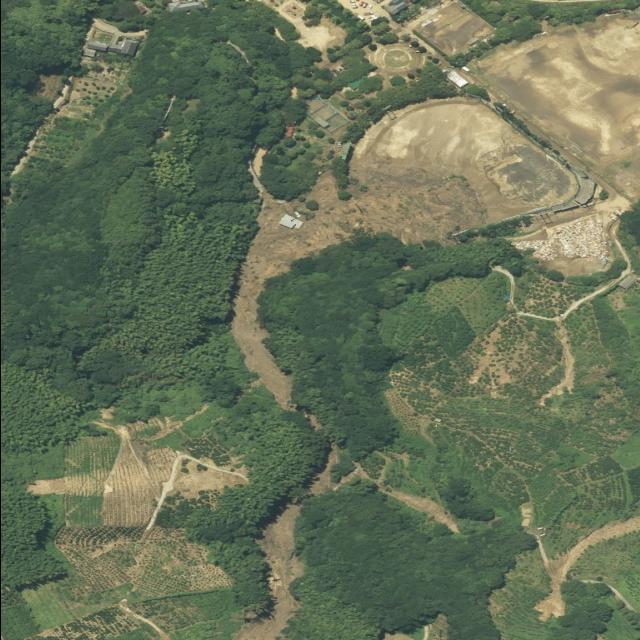landslide: (231, 96, 578, 406)
